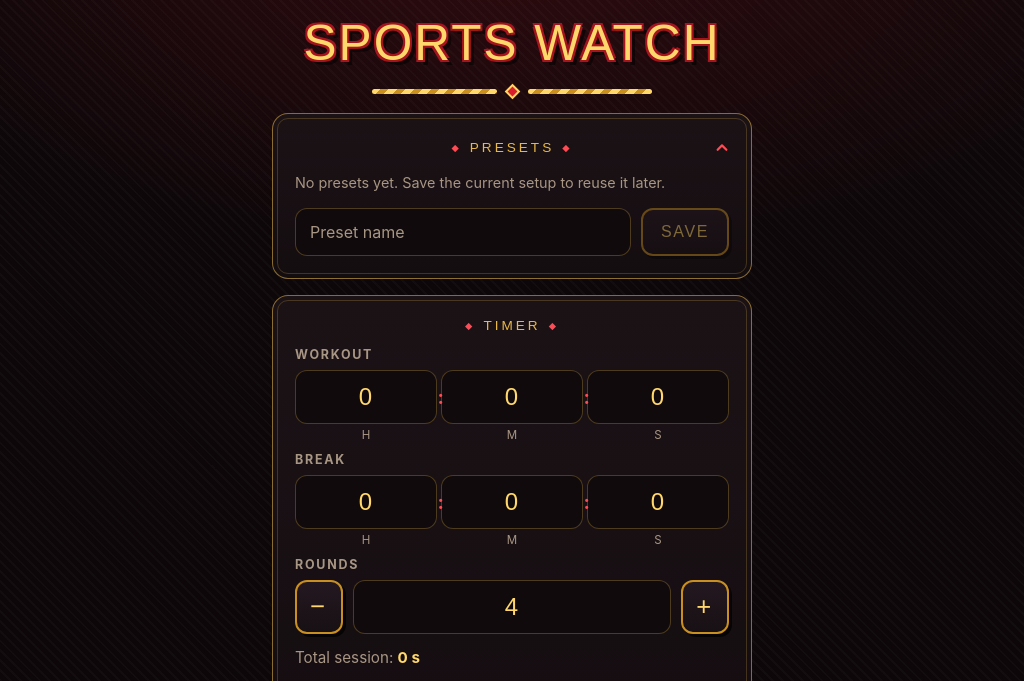
keeps a saved preset after saving on the setup screen
The width and height of the screenshot is (1024, 681).
Replace the text in the field named "Workout in seconds" with "45" at (658, 397), box top-left (587, 370), bottom-right (729, 424)
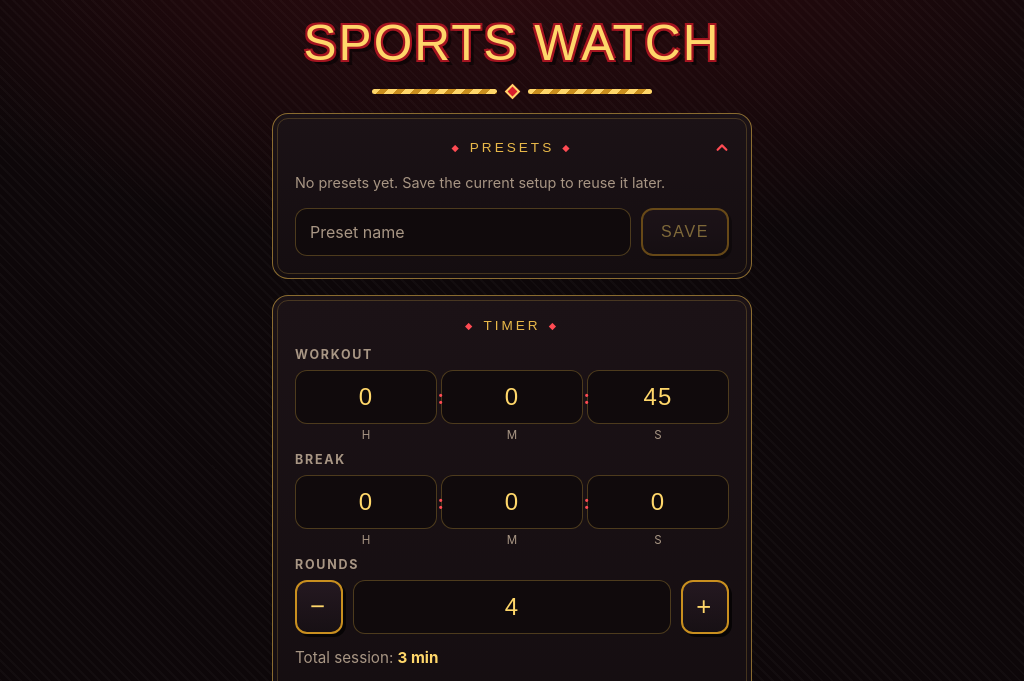
Type "Tabata" into the field labelled "Preset name" at (463, 232), box top-left (295, 208), bottom-right (631, 256)
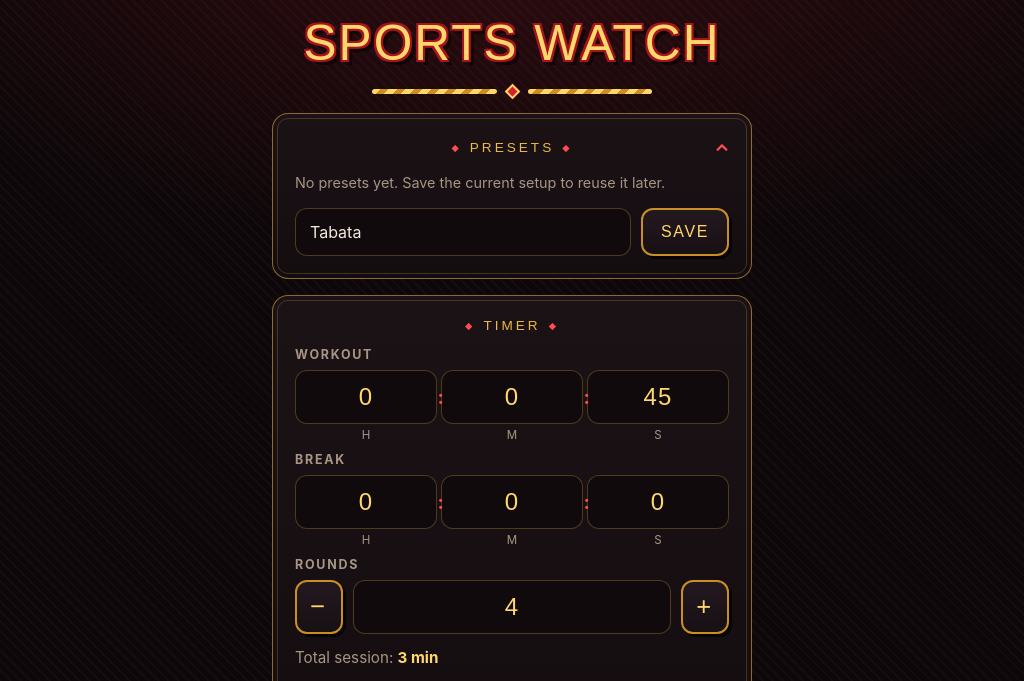
Click the button "Save" at (685, 232), box top-left (641, 208), bottom-right (729, 256)
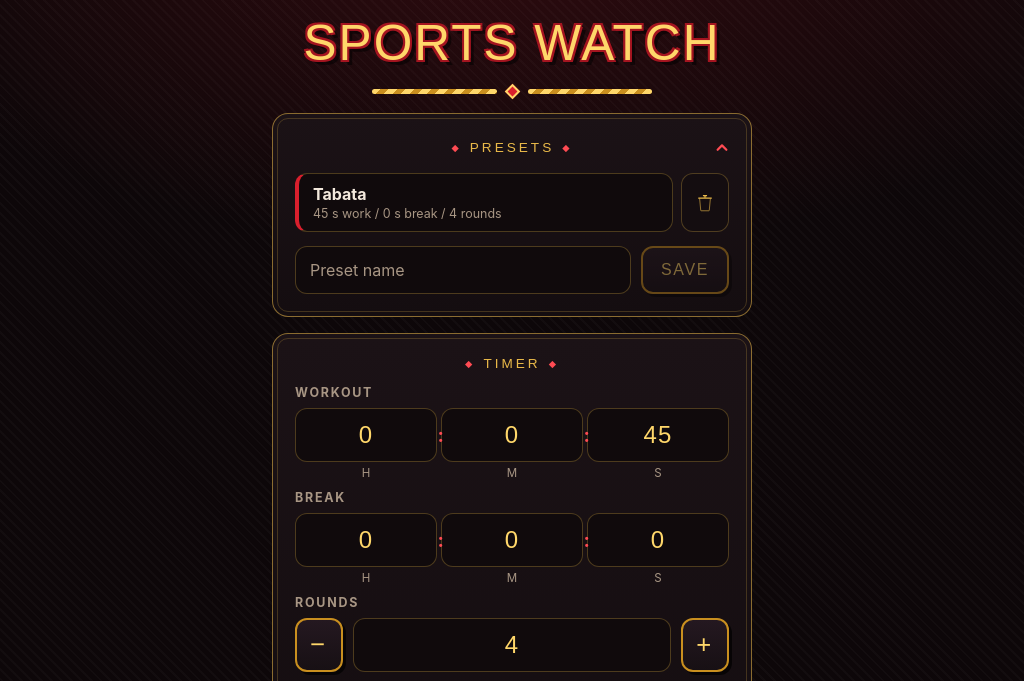
expect the text "Tabata" is shown: met, box top-left (313, 184), bottom-right (367, 204)
